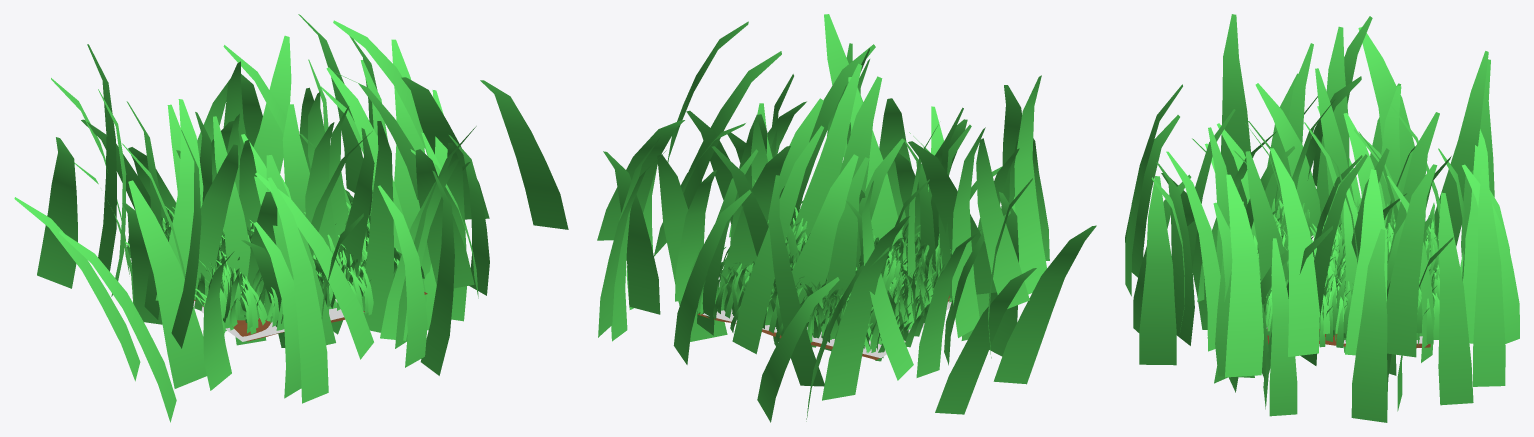
The model's file is grassPatch.fbx.
The picture shows the model from 3 angles, left to right: view 1: azimuth 30°, elevation 25°; view 2: azimuth 150°, elevation 25°; view 3: azimuth 270°, elevation 25°; orthographic projection. The views are drawn at different scales.
Visible parts, largest first — view 1: Plane.018, Plane.026, Plane.001; view 2: Plane.018, Plane.026, Plane.001; view 3: Plane.018, Plane.026.
Part boxes in pixels (x1,y1,x2,y2): Plane.018: (14, 14, 568, 422); Plane.026: (125, 190, 424, 334); Plane.001: (193, 299, 343, 341); Plane.018: (597, 14, 1096, 422); Plane.026: (697, 201, 952, 361); Plane.001: (703, 301, 951, 357); Plane.018: (1125, 14, 1519, 422); Plane.026: (1252, 196, 1439, 348).
Bounding box in the file's own units: 2616 × 1602 × 1964.
